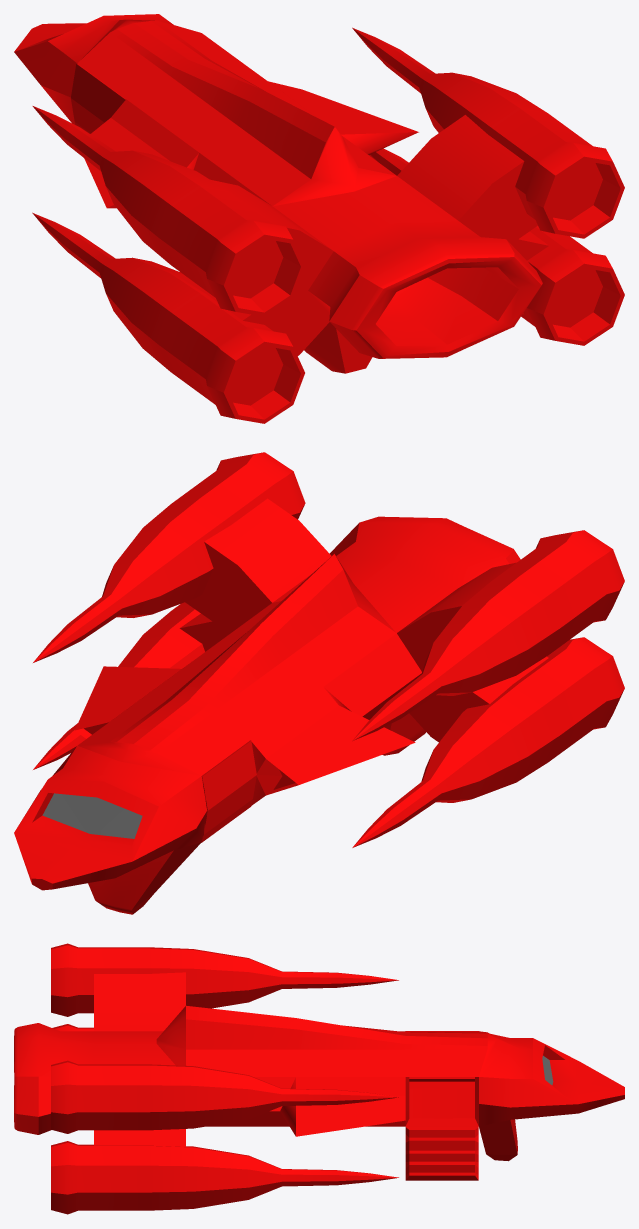
File: Scifi-Spaceship.fbx
The picture shows the model from 3 angles, top to bottom: view 1: azimuth 30°, elevation 25°; view 2: azimuth 150°, elevation 25°; view 3: azimuth 270°, elevation 25°; orthographic projection. The views are drawn at different scales.
Visible parts, largest first — view 1: pCylinder1, pCylinder6, pCylinder5, pCylinder3, pCylinder4, pCube3; view 2: pCylinder1, pCylinder6, pCylinder5, pCylinder3, pCylinder4, pCube3; view 3: pCylinder1, pCylinder3, pCylinder4, pCylinder6, pCube2, pCube3.
Part boxes in pixels (left/top/right/bottom): pCylinder1: left=14, top=14, right=548, bottom=373; pCylinder6: left=32, top=106, right=304, bottom=316; pCylinder5: left=32, top=212, right=304, bottom=423; pCylinder3: left=352, top=27, right=624, bottom=238; pCylinder4: left=369, top=148, right=624, bottom=345; pCube3: left=71, top=64, right=125, bottom=133; pCylinder1: left=14, top=498, right=548, bottom=914; pCylinder6: left=352, top=530, right=624, bottom=740; pCylinder5: left=352, top=637, right=624, bottom=847; pCylinder3: left=33, top=452, right=305, bottom=662; pCylinder4: left=33, top=602, right=204, bottom=769; pCube3: left=201, top=740, right=256, bottom=842; pCylinder1: left=14, top=972, right=624, bottom=1161; pCylinder3: left=51, top=1060, right=398, bottom=1133; pCylinder4: left=51, top=1141, right=398, bottom=1214; pCylinder6: left=51, top=943, right=398, bottom=1016; pCube2: left=405, top=1126, right=478, bottom=1180; pCube3: left=405, top=1031, right=478, bottom=1081.
Size of the model in its own units: 4.68 by 2.21 by 8.01.
